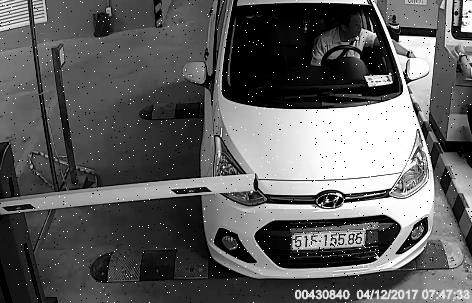License-plate: (292, 224, 381, 261)
